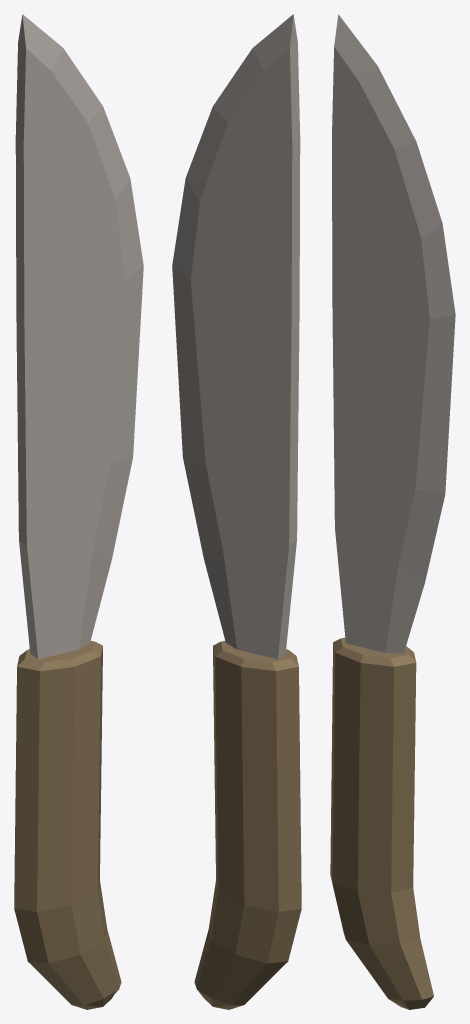
File: SM_pwe_medieval_knife_01.fbx
The picture shows the model from 3 angles, left to right: view 1: azimuth 30°, elevation 25°; view 2: azimuth 150°, elevation 25°; view 3: azimuth 330°, elevation 25°; orthographic projection. The views are drawn at different scales.
Parts seen in each view (by area): view 1: SM_pwe_medieval_knife_01; view 2: SM_pwe_medieval_knife_01; view 3: SM_pwe_medieval_knife_01.
Boxes of the visible parts, bbox=[...] form: SM_pwe_medieval_knife_01: bbox=[14, 14, 143, 1009]; SM_pwe_medieval_knife_01: bbox=[172, 14, 301, 1009]; SM_pwe_medieval_knife_01: bbox=[330, 14, 455, 1009].
Bounding box in the file's own units: 6.51 × 48.54 × 2.54.
